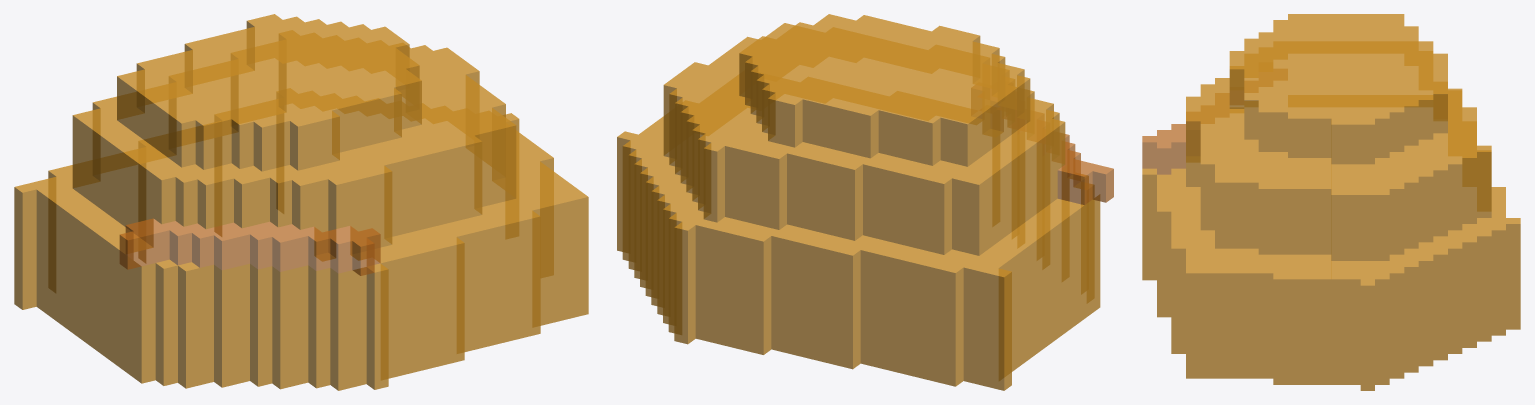
The model's file is epoxy_chunk.glb.
The picture shows the model from 3 angles, left to right: view 1: azimuth 30°, elevation 25°; view 2: azimuth 150°, elevation 25°; view 3: azimuth 270°, elevation 25°; orthographic projection. The views are drawn at different scales.
Visible parts, largest first — view 1: epoxy_chunk:compound; view 2: epoxy_chunk:compound; view 3: epoxy_chunk:compound.
Part boxes in pixels (x1,y1,x2,y2): epoxy_chunk:compound: [14, 14, 588, 390]; epoxy_chunk:compound: [617, 14, 1113, 390]; epoxy_chunk:compound: [1142, 14, 1520, 390].
Bounding box in the file's own units: 0.064 × 0.032 × 0.052.
